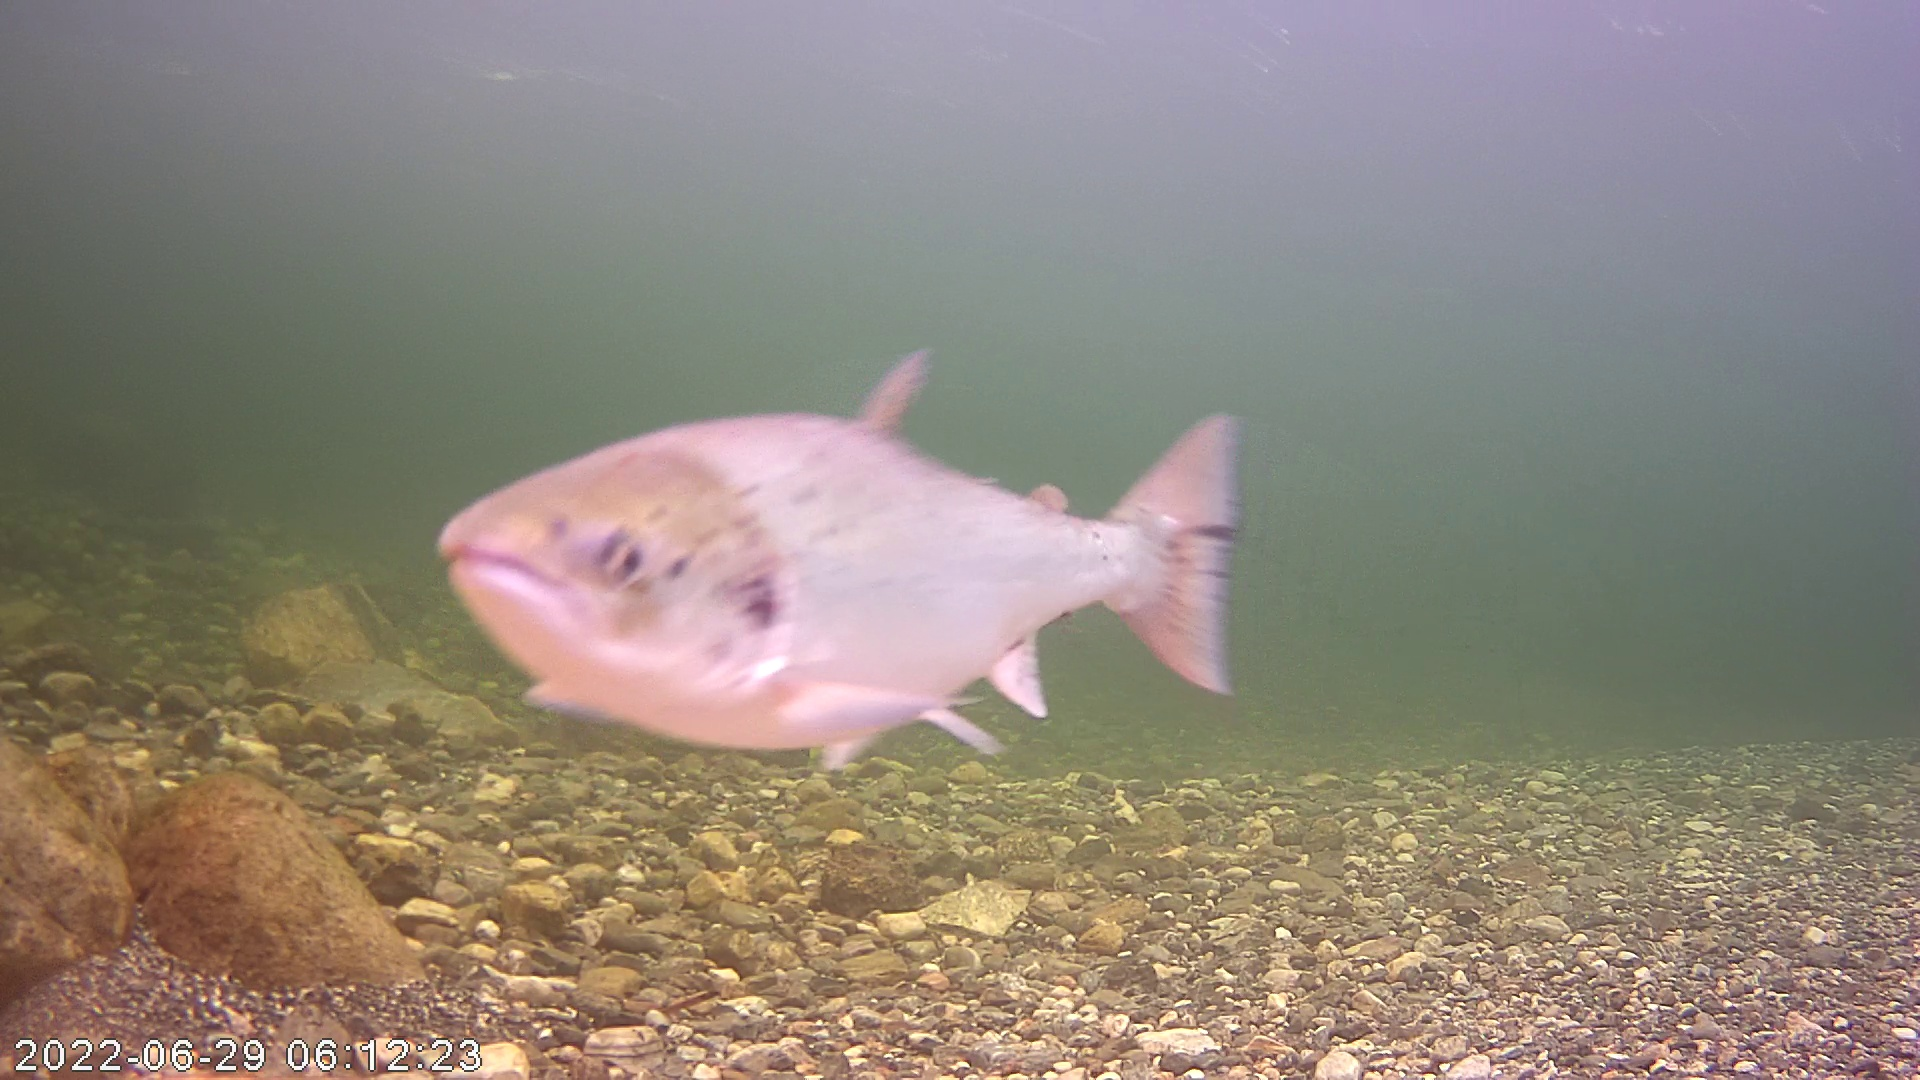salmon: (418, 324, 1257, 783)
